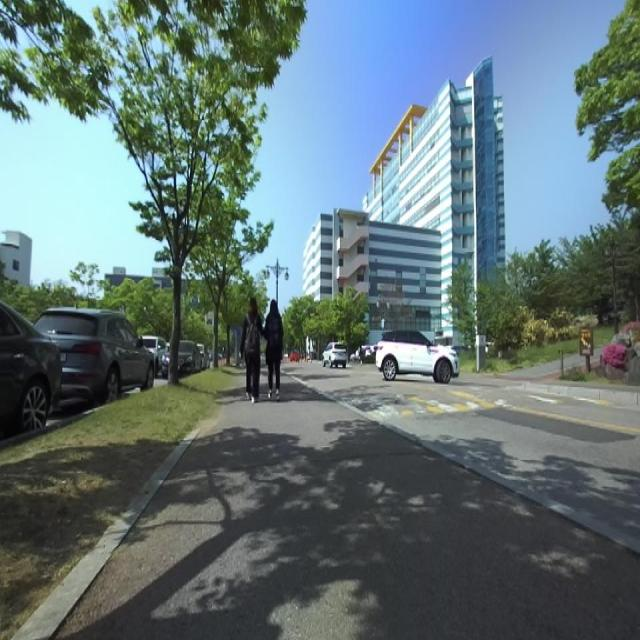sidewalk: (56, 376, 640, 639)
